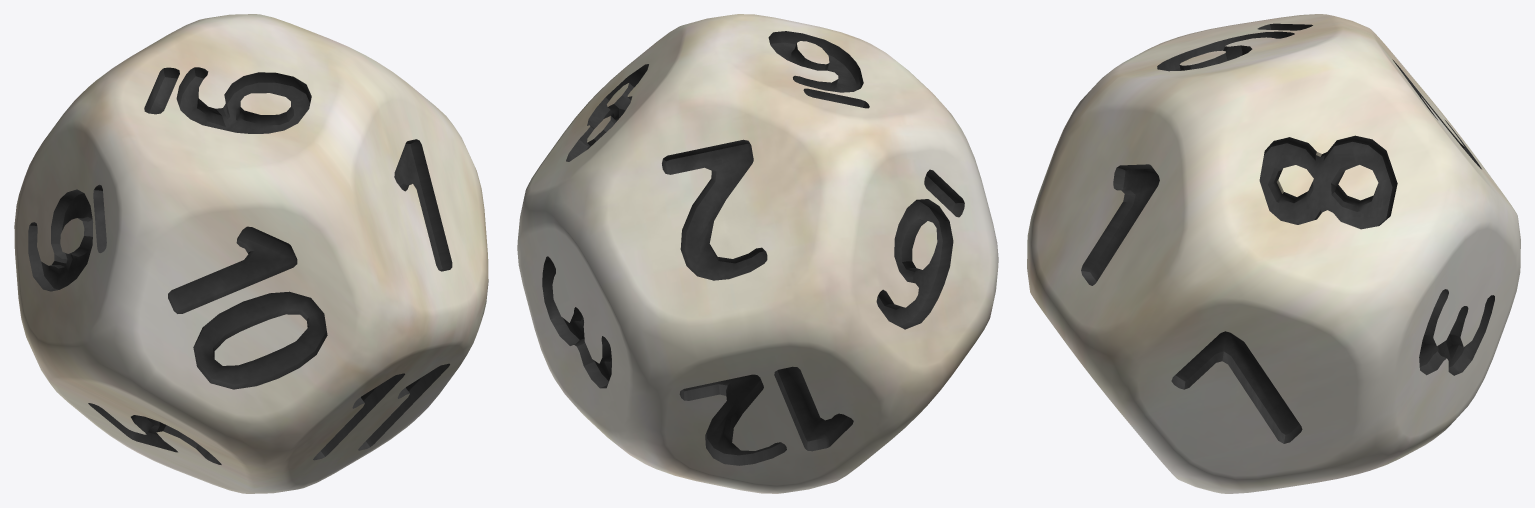
The model's file is Dice012.fbx.
3 renders of one model, left to right at view 1: azimuth 30°, elevation 25°; view 2: azimuth 150°, elevation 25°; view 3: azimuth 270°, elevation 25°, orthographic. The views are drawn at different scales.
Visible parts, largest first — view 1: Dice012; view 2: Dice012; view 3: Dice012.
Part boxes in pixels (x1=…): Dice012: x1=14, y1=14, x2=488, y2=493; Dice012: x1=517, y1=14, x2=998, y2=493; Dice012: x1=1027, y1=14, x2=1520, y2=493.
Size of the model in its own units: 3.32 by 3.36 by 3.45.
Materials: 1 (1 with a texture image).
